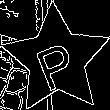P_N: (30, 29, 82, 90)
